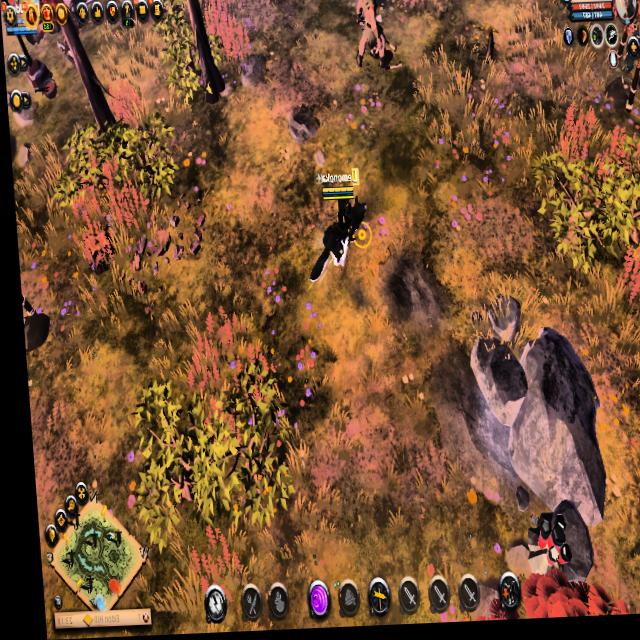ore tier 5: (514, 511, 568, 593)
